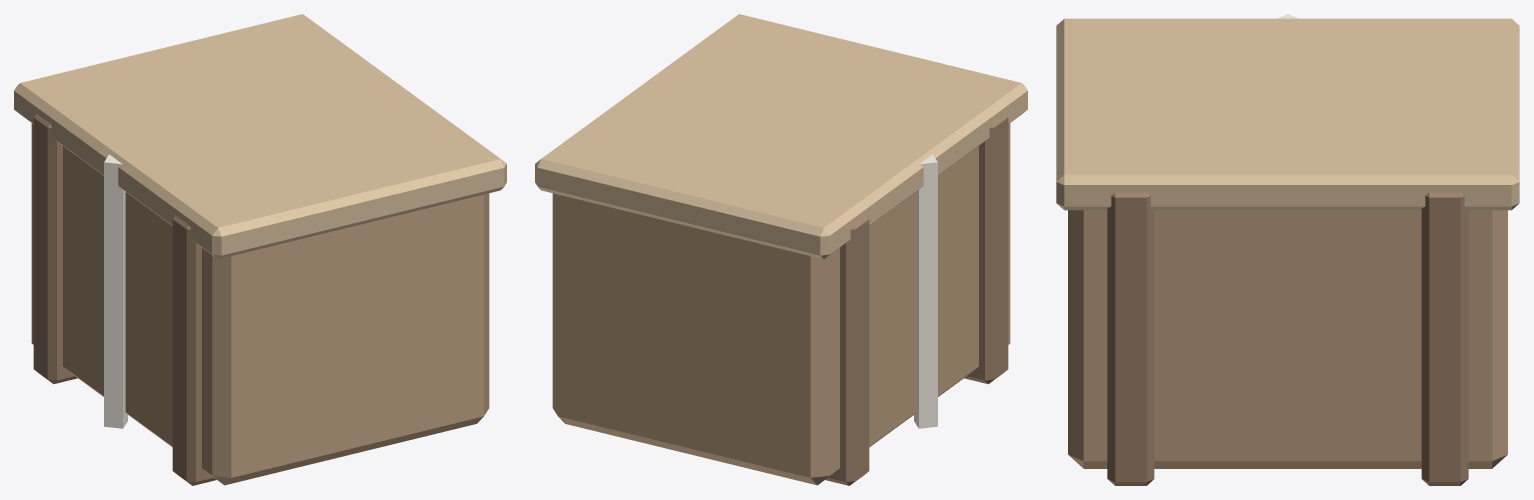
Rendered from prop_carry_crate.glb.
3 views of the same model, side by side, from view 1: azimuth 30°, elevation 25°; view 2: azimuth 150°, elevation 25°; view 3: azimuth 270°, elevation 25° (orthographic). The views are drawn at different scales.
Visible parts, largest first — view 1: prop_carry_crate; view 2: prop_carry_crate; view 3: prop_carry_crate.
Part boxes in pixels (x1,y1,x2,y2): prop_carry_crate: (14,14,506,485); prop_carry_crate: (535,14,1027,485); prop_carry_crate: (1056,14,1519,485).
Bounding box in the file's own units: 0.51 × 0.435 × 0.59.
